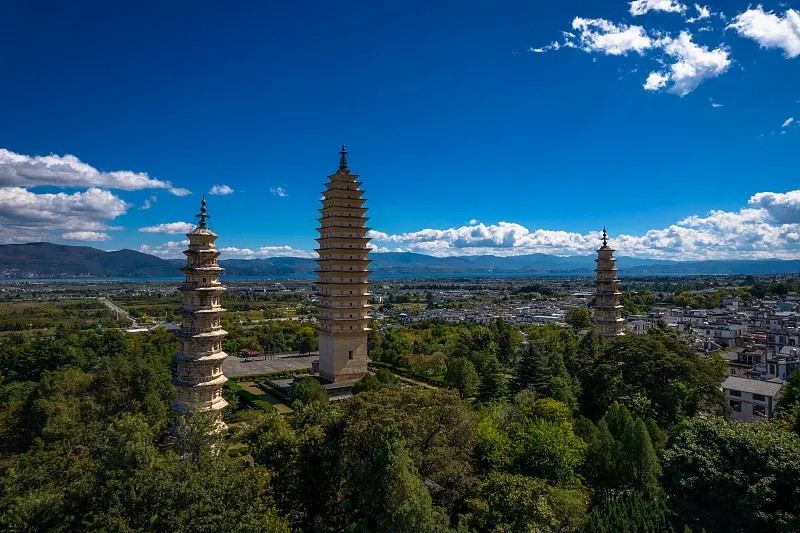ThreePagoda: (311, 144, 373, 381)
